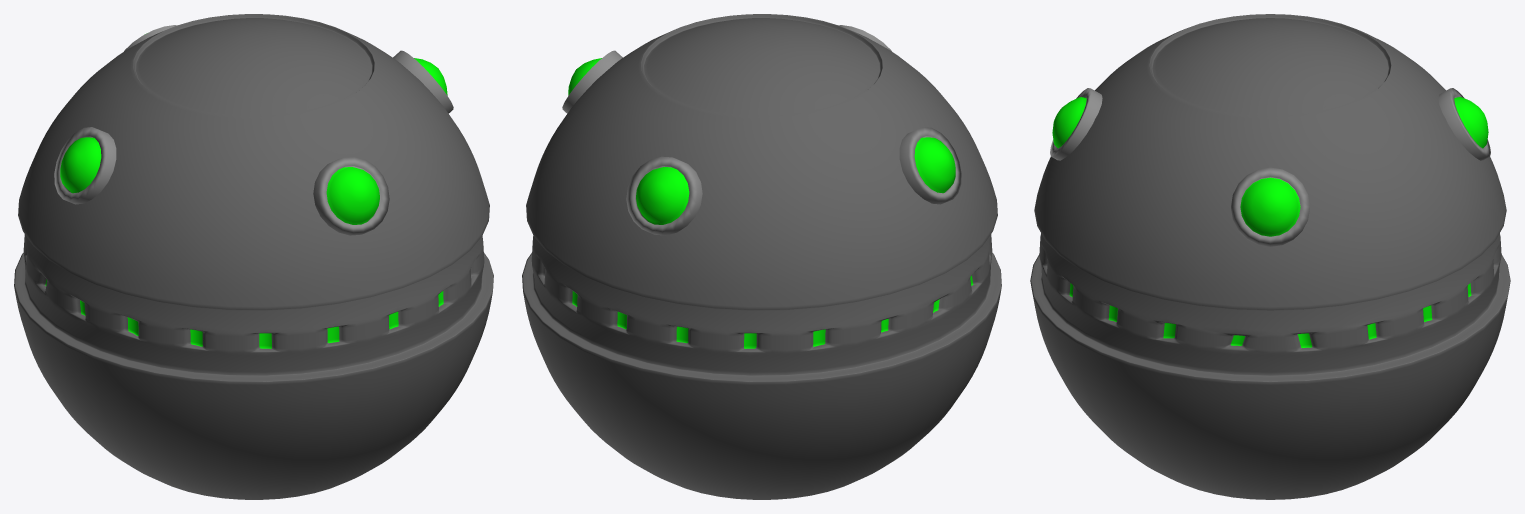
File: Sphera.fbx
3 views of the same model, side by side, from view 1: azimuth 30°, elevation 25°; view 2: azimuth 150°, elevation 25°; view 3: azimuth 270°, elevation 25° (orthographic).
Visible parts, largest first — view 1: group4_pCylinder1; view 2: group4_pCylinder1; view 3: group4_pCylinder1.
Boxes of the visible parts, <box> form: group4_pCylinder1: <box>14,14,493,499</box>; group4_pCylinder1: <box>522,14,1001,499</box>; group4_pCylinder1: <box>1030,14,1510,499</box>.
Size of the model in its own units: 27.93 by 27.89 by 27.93.
